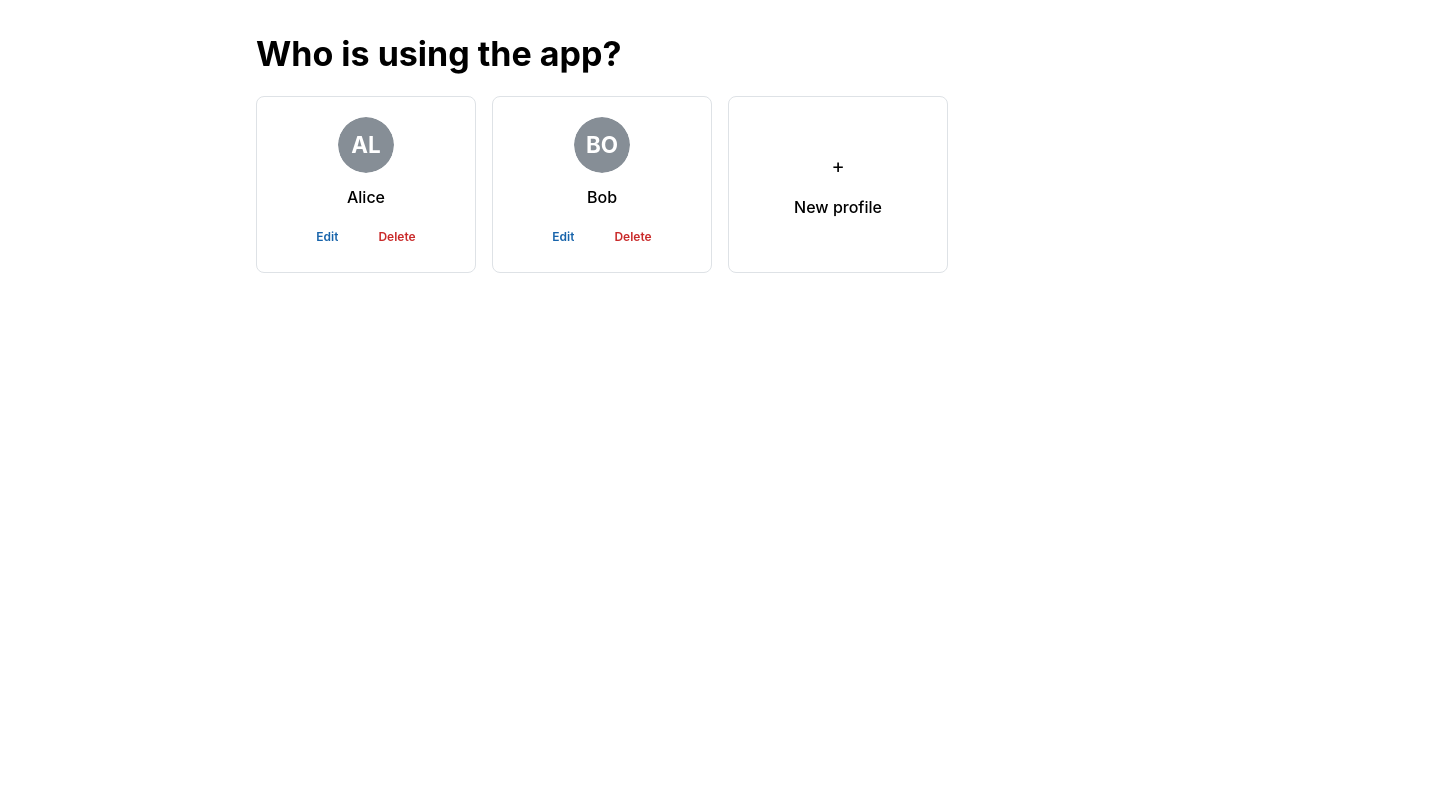
Scenario: ProfileSelectPage › keeps the active profile when another profile gets deleted
Click the button "Delete" below "Bob": (633, 237) [600, 222, 667, 252]
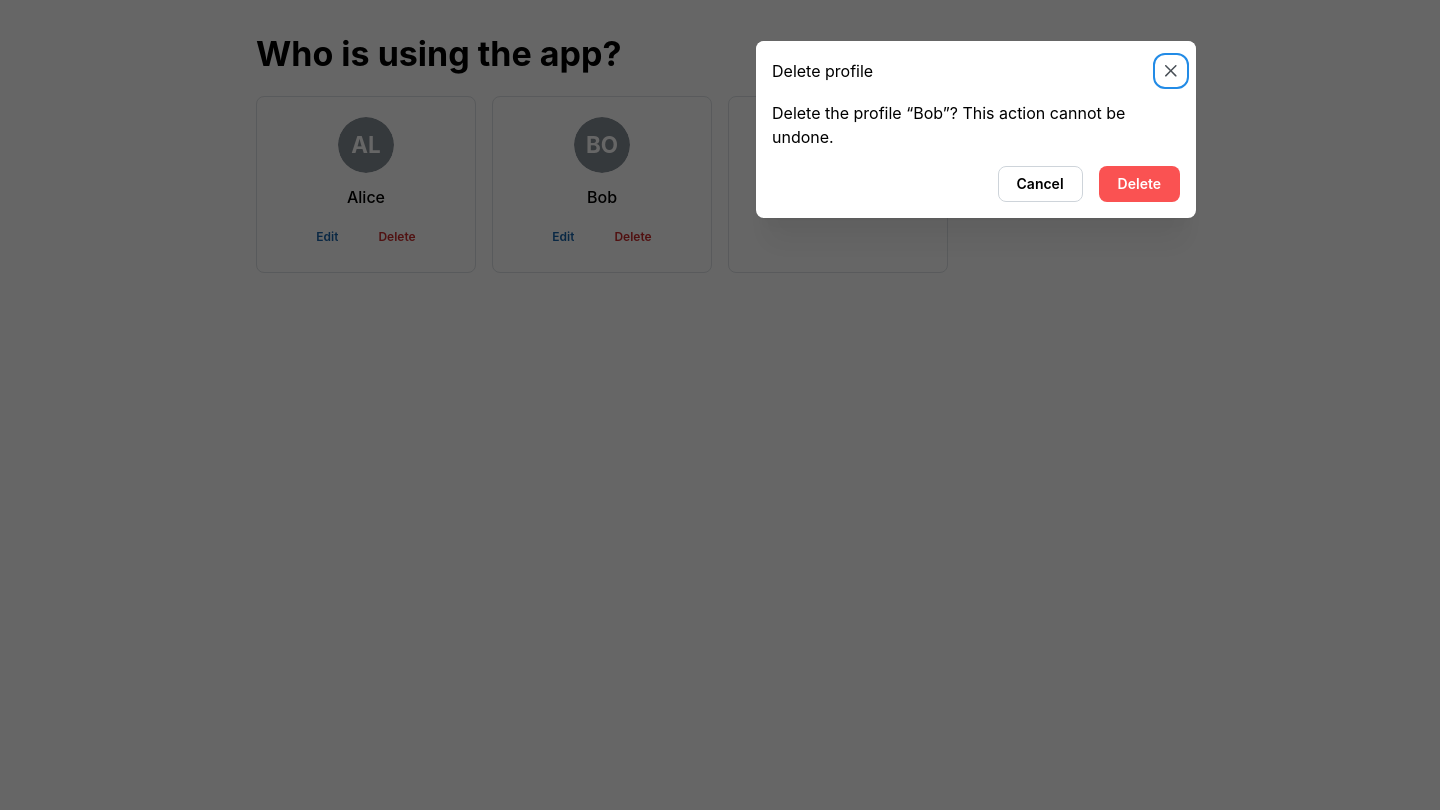
Click the button "Delete": (1139, 184) [1099, 166, 1180, 202]
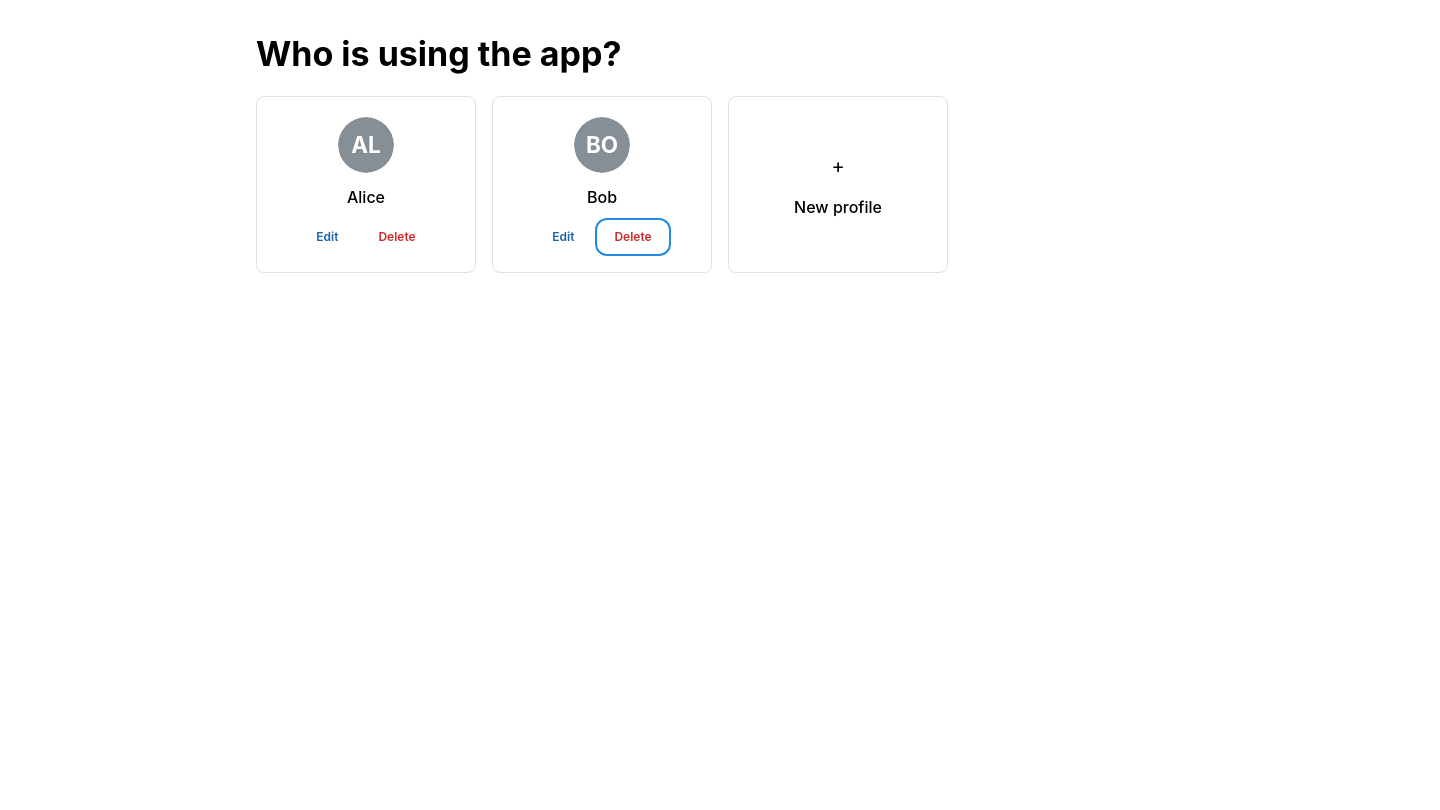
Expected: the dialog is gone
